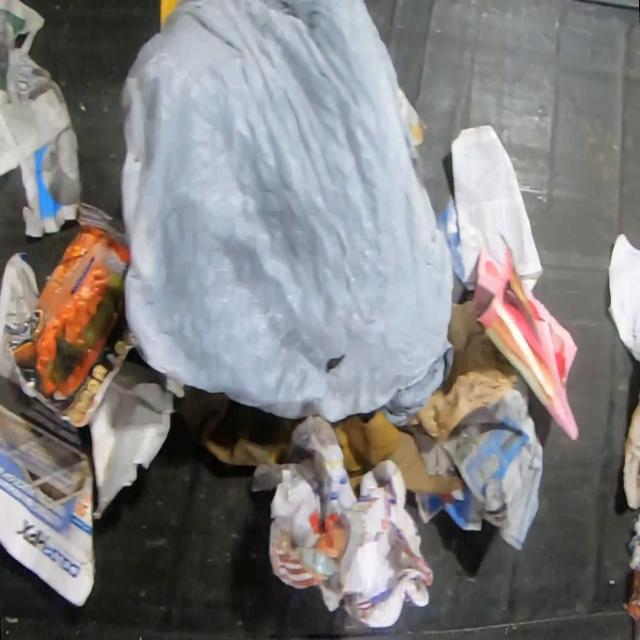cardboard: (332, 408, 466, 503), (180, 384, 292, 466)
soft_plastic: (119, 0, 456, 427), (10, 200, 136, 426)
